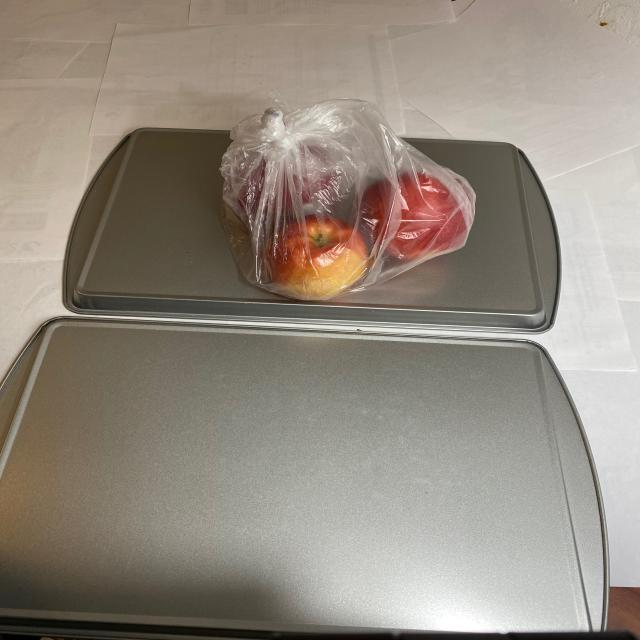apple: (231, 140, 481, 298)
